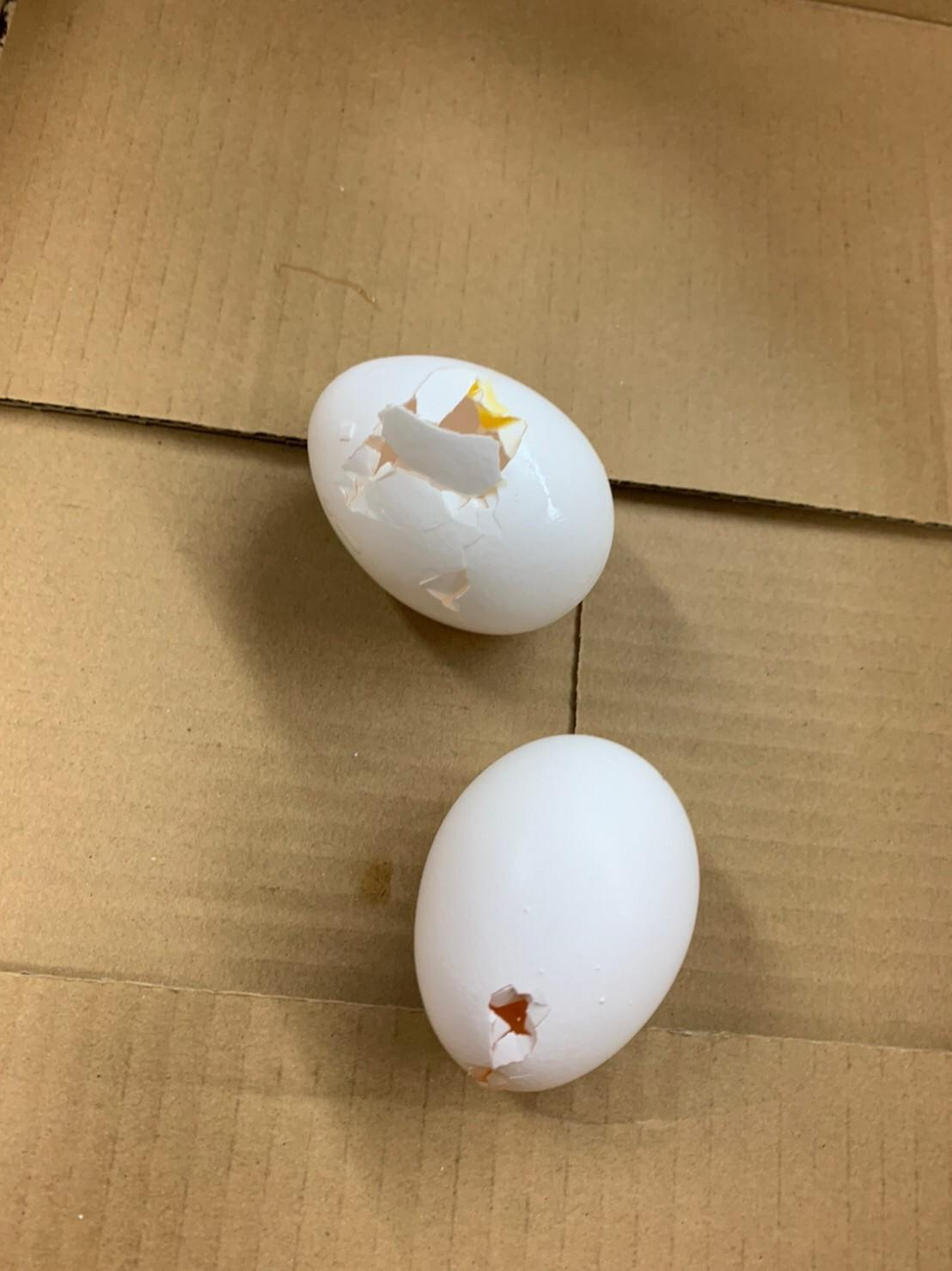egg: (406, 721, 705, 1105), (292, 346, 619, 647)
